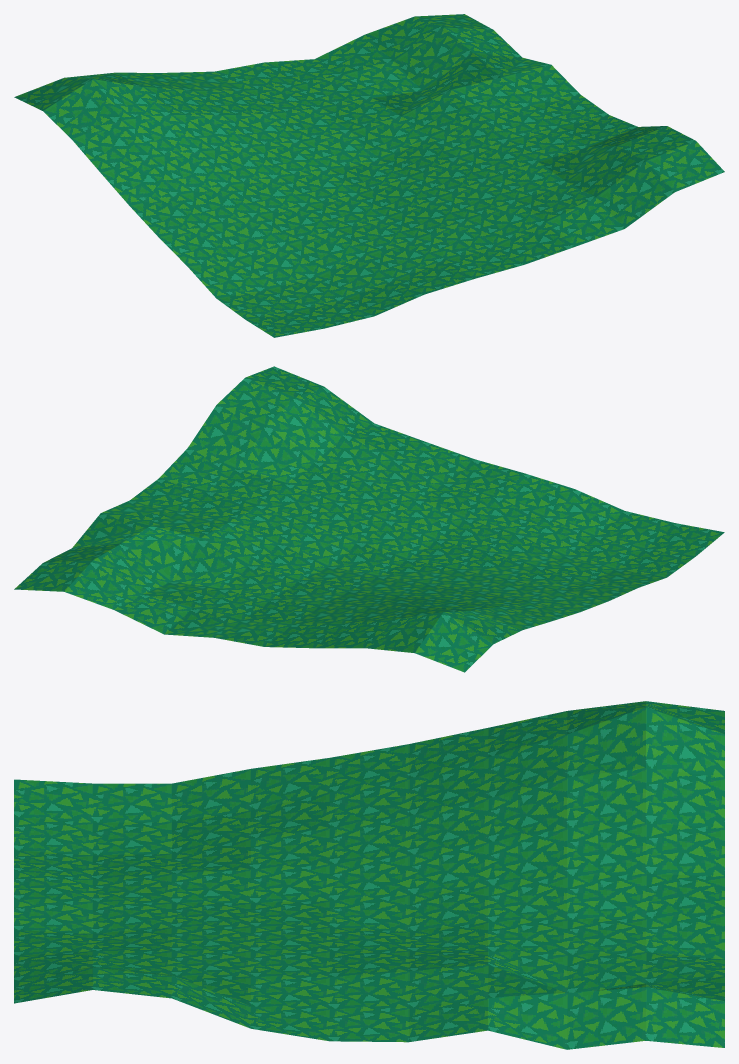
The model's file is ground.dae.
3 renders of one model, top to bottom at view 1: azimuth 30°, elevation 25°; view 2: azimuth 150°, elevation 25°; view 3: azimuth 270°, elevation 25°, orthographic. The views are drawn at different scales.
Parts seen in each view (by area): view 1: Grid; view 2: Grid; view 3: Grid.
Boxes of the visible parts, <box> form: Grid: <box>14,14,724,337</box>; Grid: <box>14,366,724,672</box>; Grid: <box>14,701,724,1049</box>.
Size of the model in its own units: 20 by 20 by 3.59.
